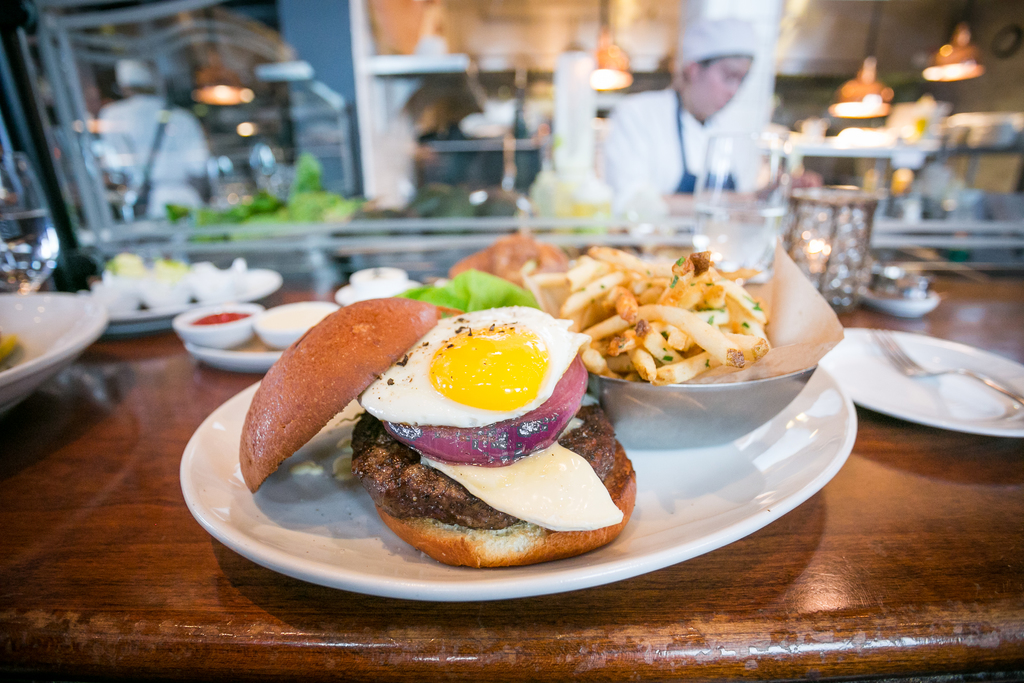French fries: (551, 247, 768, 394)
